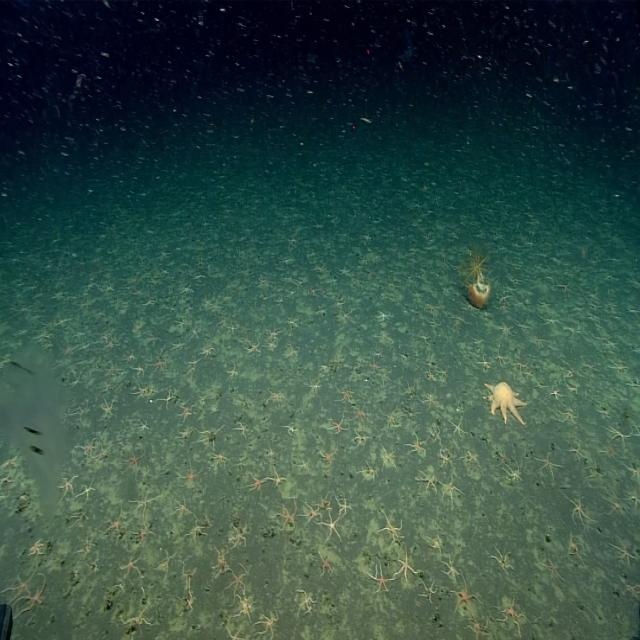brittle-stars: (1, 564, 38, 604), (452, 580, 478, 618), (498, 596, 526, 631), (154, 545, 178, 585), (563, 496, 591, 530), (131, 487, 159, 517), (24, 577, 46, 614), (369, 563, 394, 595), (314, 483, 339, 514), (396, 375, 419, 407), (73, 529, 99, 557), (225, 566, 247, 599), (395, 551, 416, 585), (602, 491, 626, 519), (380, 514, 403, 542), (612, 540, 635, 568), (580, 354, 604, 380), (490, 547, 513, 574), (256, 612, 278, 640), (276, 502, 296, 531), (535, 452, 558, 477), (557, 357, 580, 382), (542, 556, 564, 581), (178, 462, 200, 487), (30, 320, 51, 346), (297, 589, 317, 616), (441, 476, 461, 503), (322, 514, 341, 542), (82, 553, 101, 581), (123, 449, 146, 472), (124, 314, 148, 336), (126, 609, 151, 630), (467, 615, 488, 640), (120, 555, 142, 578), (609, 424, 633, 445), (566, 532, 584, 560), (0, 448, 20, 473), (107, 511, 125, 538), (172, 495, 192, 519), (134, 522, 154, 546), (98, 274, 118, 298), (59, 474, 78, 499), (198, 426, 220, 447), (417, 469, 437, 492), (408, 434, 428, 457), (230, 524, 249, 548), (187, 518, 206, 542), (214, 546, 230, 574), (359, 461, 378, 484), (621, 577, 640, 600), (380, 445, 397, 470), (302, 503, 322, 524), (79, 477, 96, 501), (252, 270, 269, 294), (565, 379, 584, 400), (318, 445, 336, 467), (237, 596, 255, 618), (180, 565, 196, 589), (600, 443, 619, 462), (318, 553, 333, 577), (330, 415, 348, 435), (79, 439, 97, 459), (504, 460, 521, 481), (444, 557, 460, 579), (352, 404, 368, 426), (95, 444, 111, 466), (505, 271, 527, 287), (247, 474, 265, 493), (212, 451, 230, 470), (450, 418, 467, 438), (567, 442, 584, 462), (624, 488, 640, 509), (421, 580, 436, 602), (72, 404, 90, 422), (559, 409, 578, 426), (269, 470, 286, 489), (29, 537, 45, 557), (272, 288, 288, 308), (338, 495, 352, 517), (268, 388, 286, 405), (235, 421, 252, 439), (421, 390, 438, 408), (463, 450, 480, 468), (0, 472, 15, 492), (101, 396, 115, 417), (104, 360, 121, 377), (152, 356, 168, 374), (160, 389, 176, 407), (338, 386, 354, 404), (72, 508, 88, 526), (178, 403, 193, 422), (611, 359, 630, 374), (147, 378, 161, 398), (626, 462, 640, 482), (228, 316, 240, 339), (354, 430, 369, 448), (428, 424, 442, 443), (386, 408, 398, 430), (183, 592, 196, 612), (451, 311, 467, 327), (62, 342, 78, 358), (437, 280, 453, 296), (268, 323, 283, 340), (228, 626, 246, 640), (316, 358, 329, 377), (498, 320, 513, 336), (56, 314, 72, 329), (494, 349, 508, 366), (285, 344, 299, 361), (440, 449, 454, 466), (287, 487, 301, 504), (428, 533, 441, 551), (516, 318, 531, 333), (177, 425, 192, 440), (377, 328, 392, 343), (376, 309, 392, 323), (132, 362, 146, 378), (514, 357, 530, 371), (532, 334, 548, 348), (386, 276, 400, 292), (540, 314, 557, 327), (228, 360, 239, 380), (479, 354, 493, 369), (306, 378, 320, 393), (201, 346, 216, 360), (550, 385, 564, 400), (134, 380, 148, 395), (188, 323, 200, 340), (203, 291, 215, 308), (247, 341, 261, 355), (341, 308, 355, 322), (283, 423, 297, 437), (418, 331, 431, 346), (557, 281, 572, 294), (144, 334, 159, 347), (498, 450, 510, 466), (172, 339, 186, 352), (266, 340, 280, 353), (180, 282, 193, 296), (125, 351, 138, 365), (143, 294, 156, 308), (105, 338, 118, 352), (428, 316, 442, 329), (425, 303, 440, 315), (369, 356, 379, 373), (498, 292, 511, 305), (186, 356, 198, 370), (102, 379, 113, 394), (300, 457, 311, 472), (217, 314, 228, 329), (380, 368, 390, 384), (537, 300, 550, 312), (287, 316, 299, 329), (178, 318, 188, 333), (138, 420, 150, 432), (194, 272, 206, 284), (587, 289, 599, 301), (426, 371, 437, 384), (308, 284, 319, 297), (266, 447, 276, 461), (340, 266, 351, 278), (352, 275, 363, 287), (74, 328, 86, 339), (327, 276, 338, 288), (240, 325, 250, 338), (439, 364, 449, 377), (525, 367, 536, 378), (336, 299, 347, 310), (413, 290, 425, 300), (286, 288, 297, 298), (425, 358, 435, 369), (282, 274, 292, 285), (439, 375, 449, 385)
